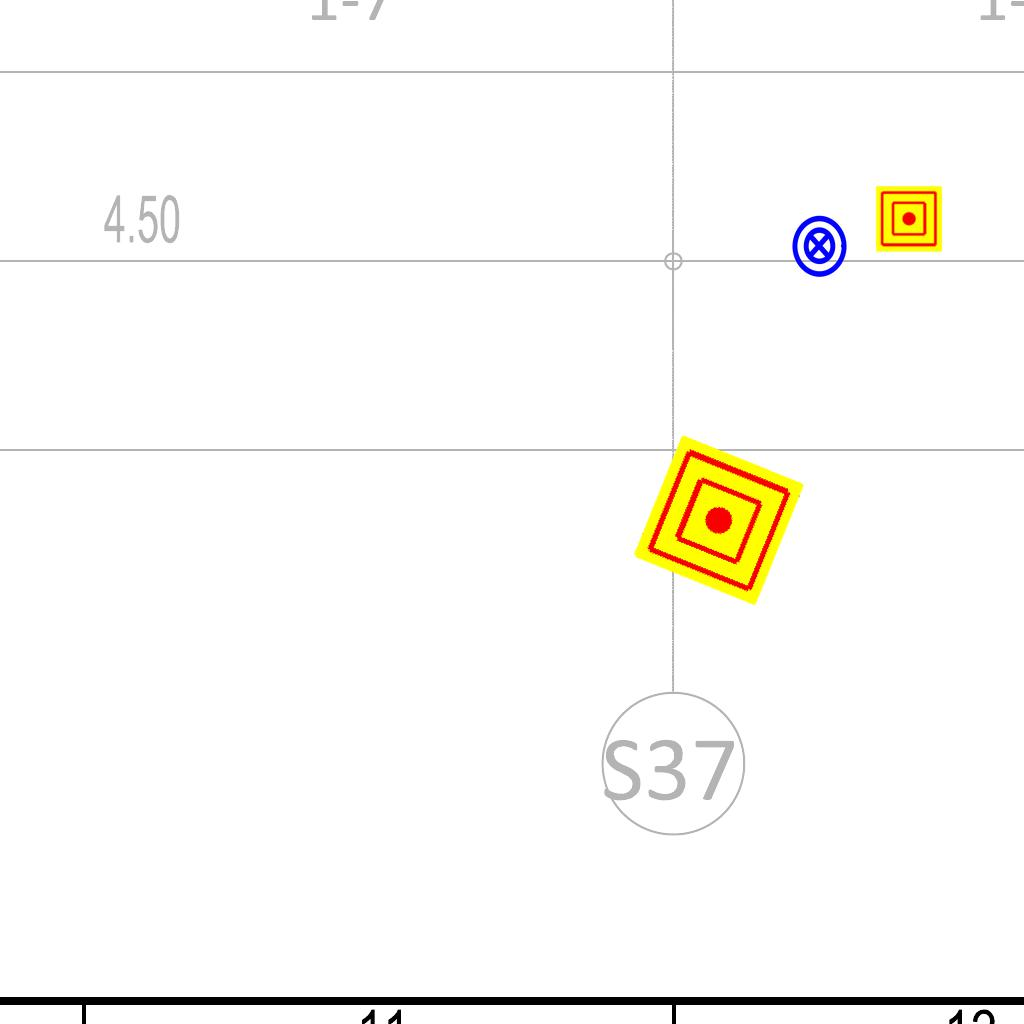NAM-Nichtautomatischer_Melder: (633, 434, 805, 606), (876, 186, 942, 252)
Taster_beleuchtet: (786, 213, 852, 279)
